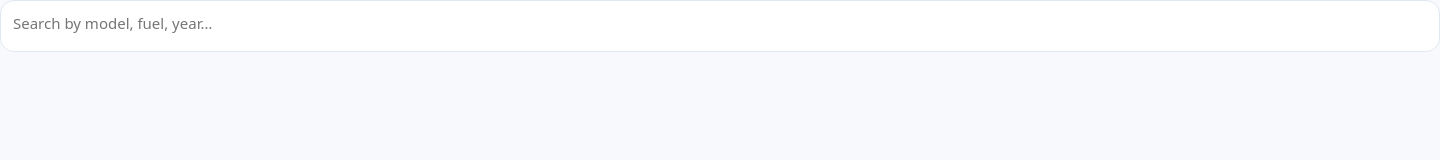
it: FacetChipInput › shows the no-match row for an unmatched token
Type "golf dizel" into the dropdown with test id "facet-chip-input" showing "Search by model, fuel, year…".
click(722, 23); type("golf dizel")  # box [13, 9, 1431, 37]
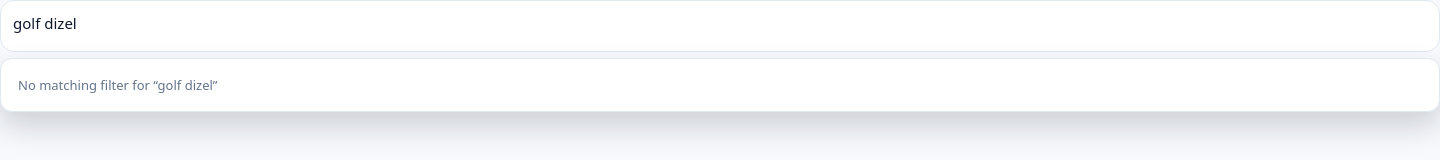
Expected: the text "No matching filter for “golf dizel”" is shown, [18, 76, 218, 94]
